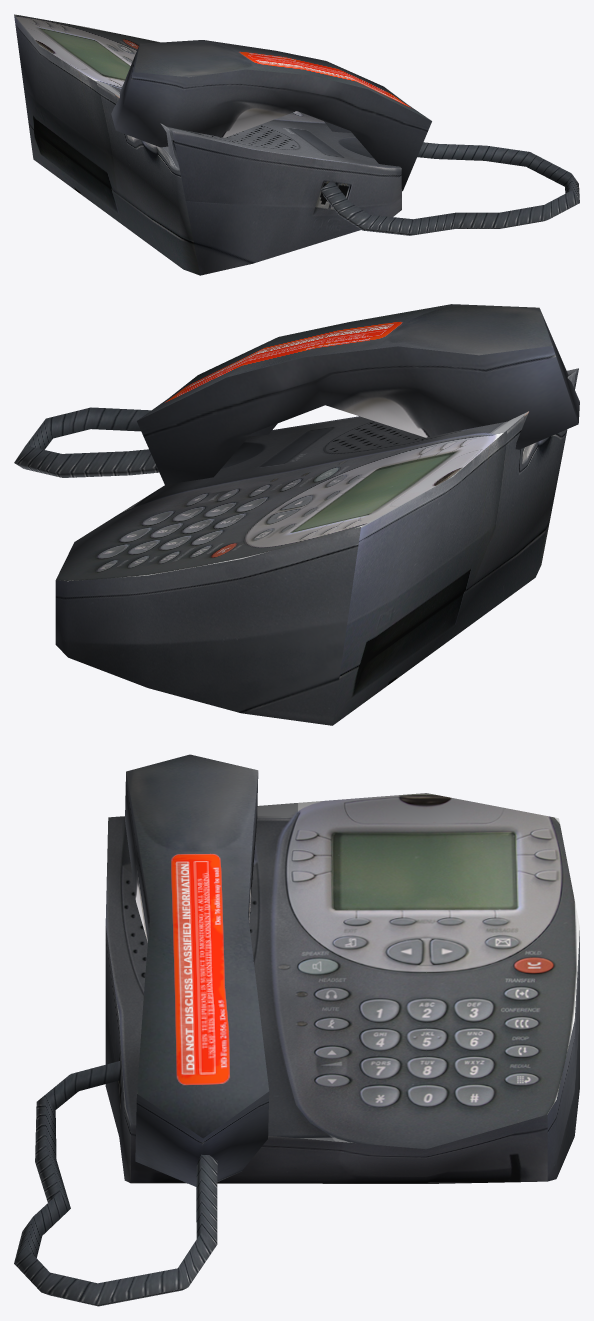
File: Office_Phone_1.fbx
3 views of the same model, one above another, from view 1: azimuth 30°, elevation 25°; view 2: azimuth 150°, elevation 25°; view 3: azimuth 270°, elevation 25° (orthographic). The views are drawn at different scales.
Visible parts, largest first — view 1: Office_Phone_1_Low; view 2: Office_Phone_1_Low; view 3: Office_Phone_1_Low.
Part boxes in pixels (bbox=[...]): Office_Phone_1_Low: bbox=[14, 14, 579, 275]; Office_Phone_1_Low: bbox=[14, 304, 579, 725]; Office_Phone_1_Low: bbox=[14, 754, 579, 1306].
Size of the model in its own units: 33.11 by 14.4 by 26.62.
